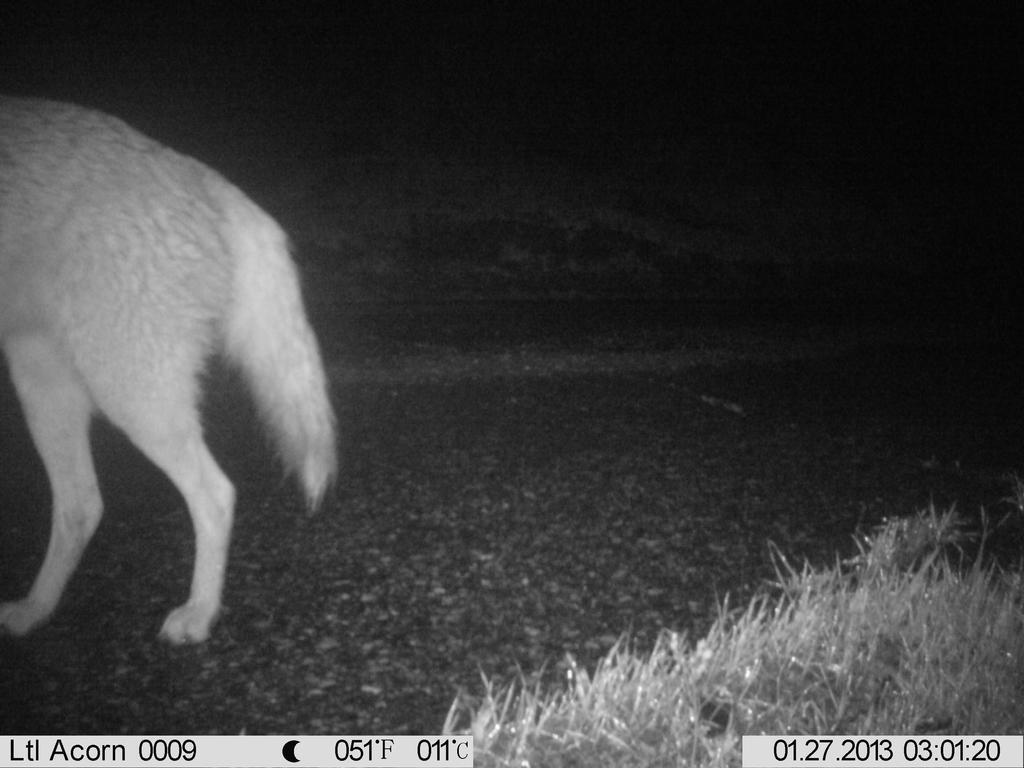coyote: (1, 94, 349, 660)
